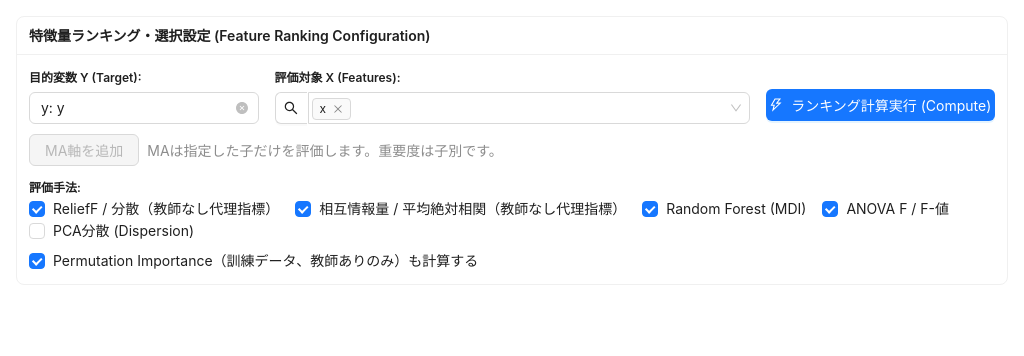
Test case: requires explicit execution and preserves an empty scope
The image size is (1024, 356).
Click the button with test id "compute-ranking-btn": click(880, 105) [766,89,995,121]
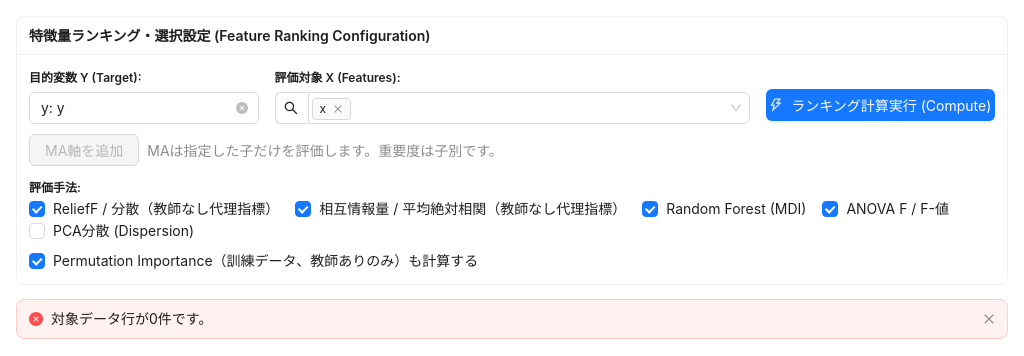
Result: the text "対象データ行が0件です。" is shown at [51,310,212,327]
